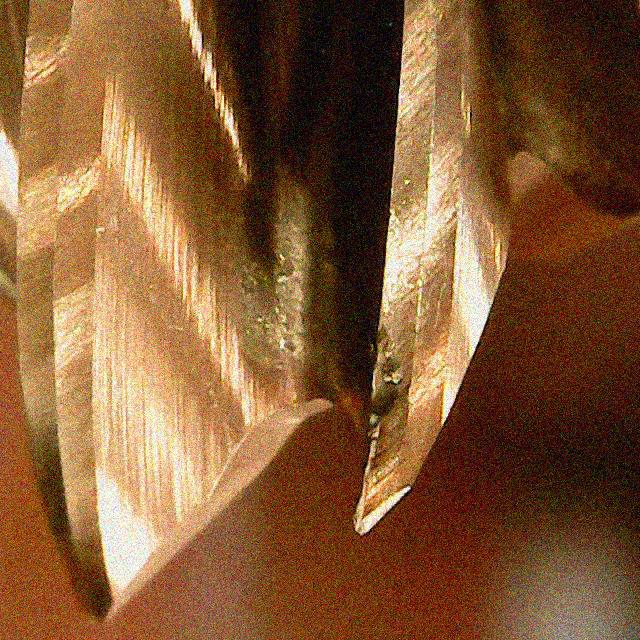Tool-wear-class-1: (325, 224, 494, 543)
